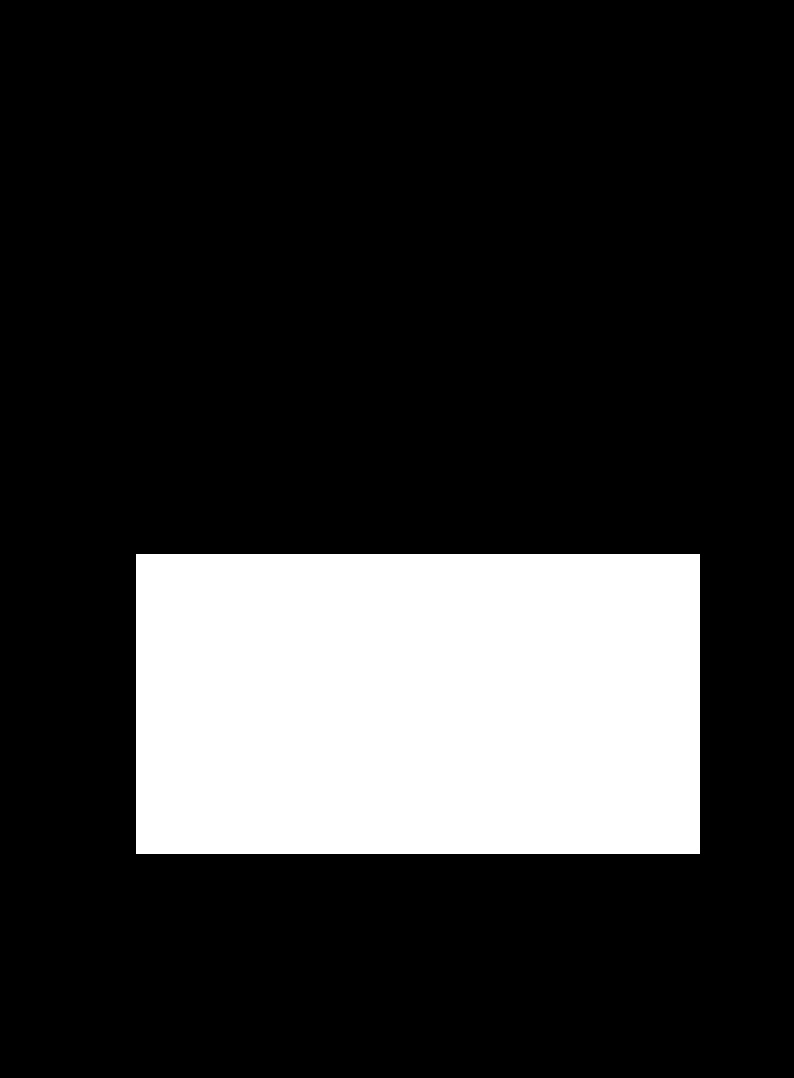table: (136, 554, 699, 853)
